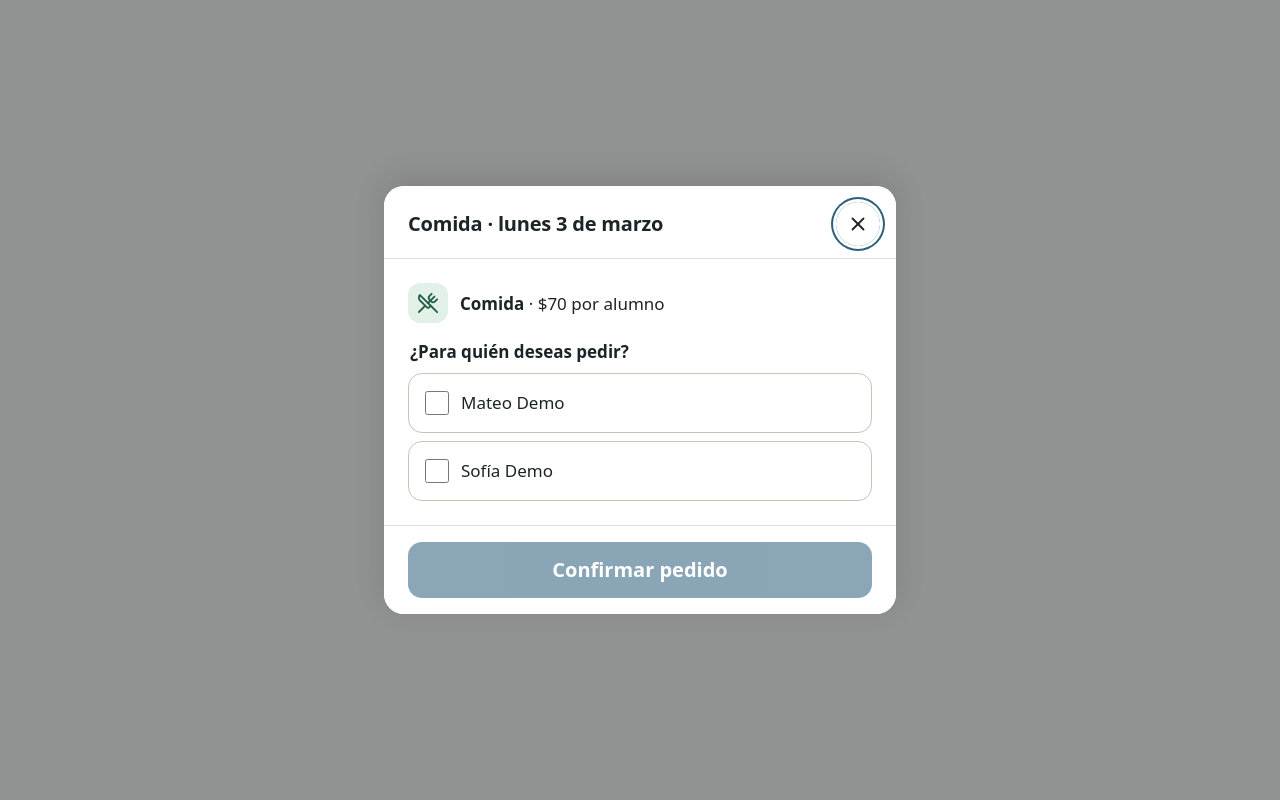
Test: OrderSheet › 20b. mientras el servidor no responde, solo muestra "Enviando…"
The width and height of the screenshot is (1280, 800).
Click the checkbox labelled "Mateo Demo".
click(437, 403)  # box [425,391,449,415]
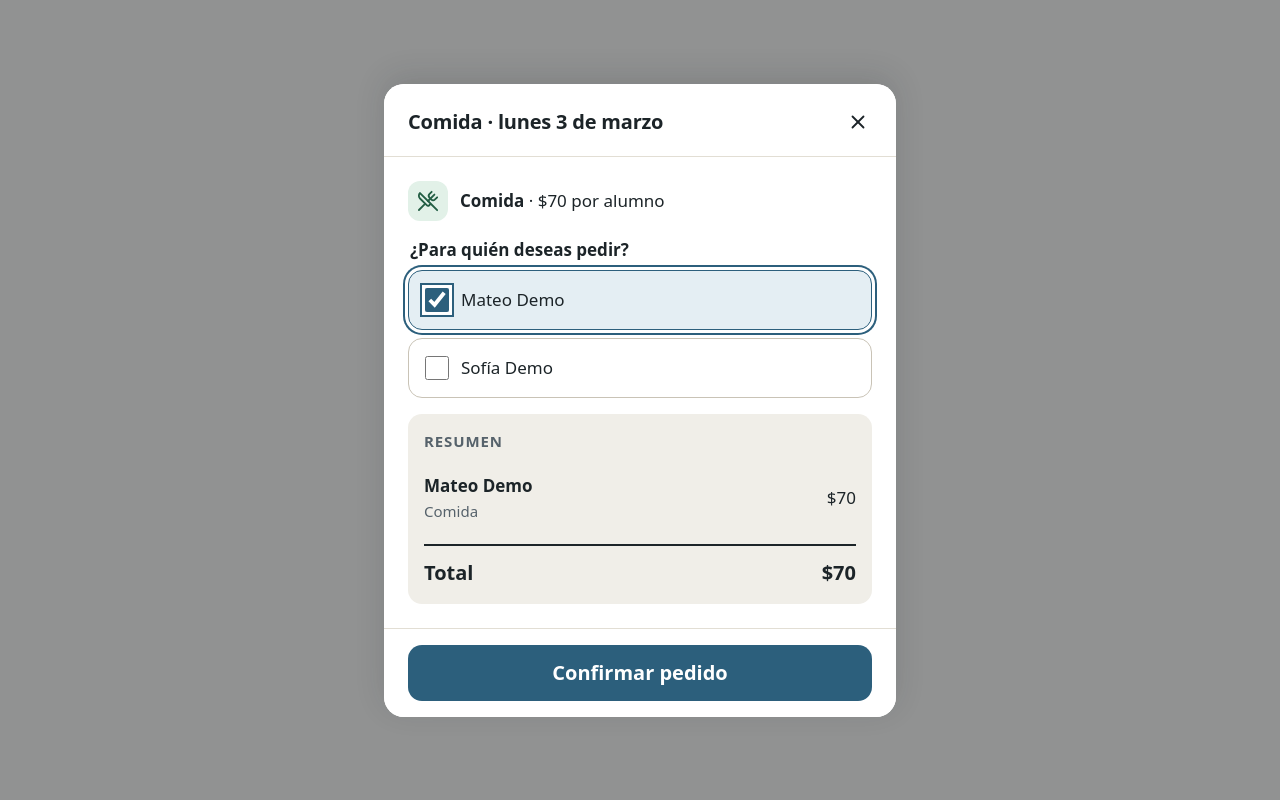
Click the button "Confirmar pedido".
click(640, 672)  # box [408,644,872,700]
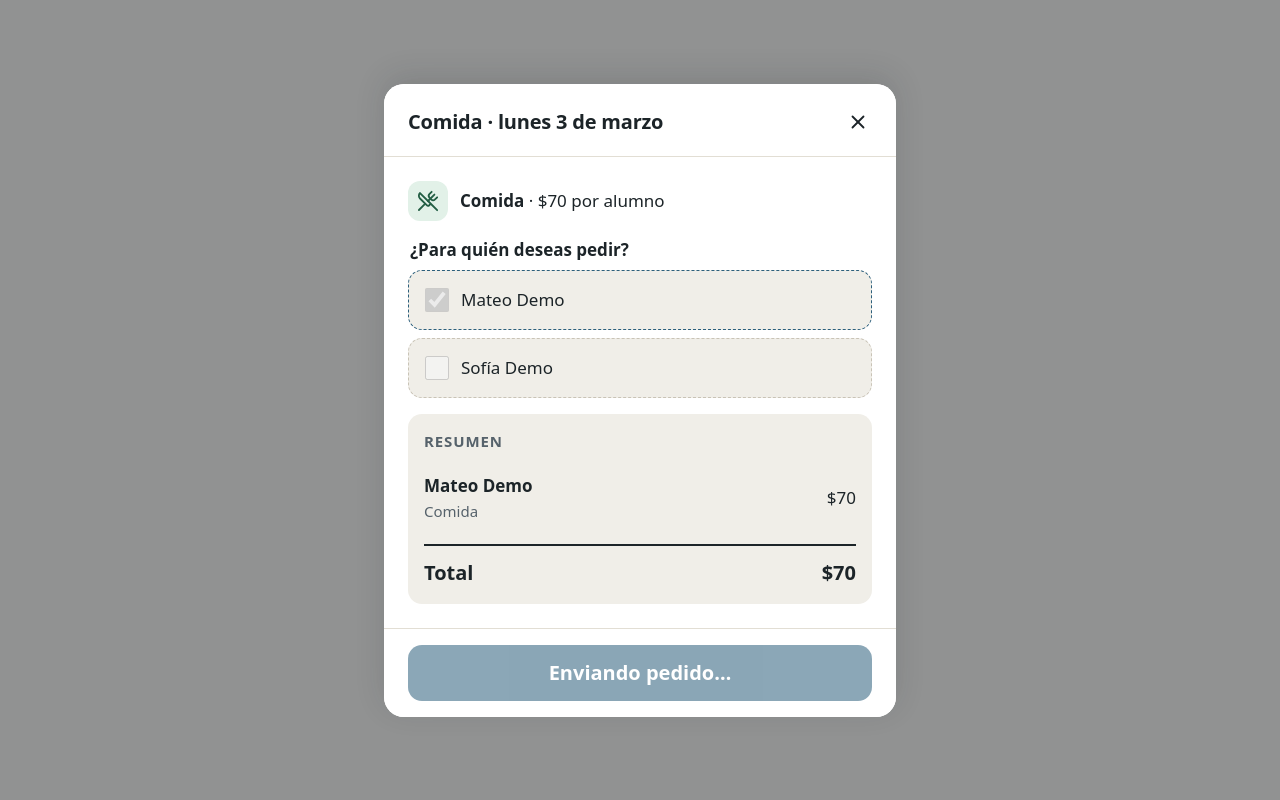
Result: the button "Enviando pedido…" is disabled at [408,644,872,700]
